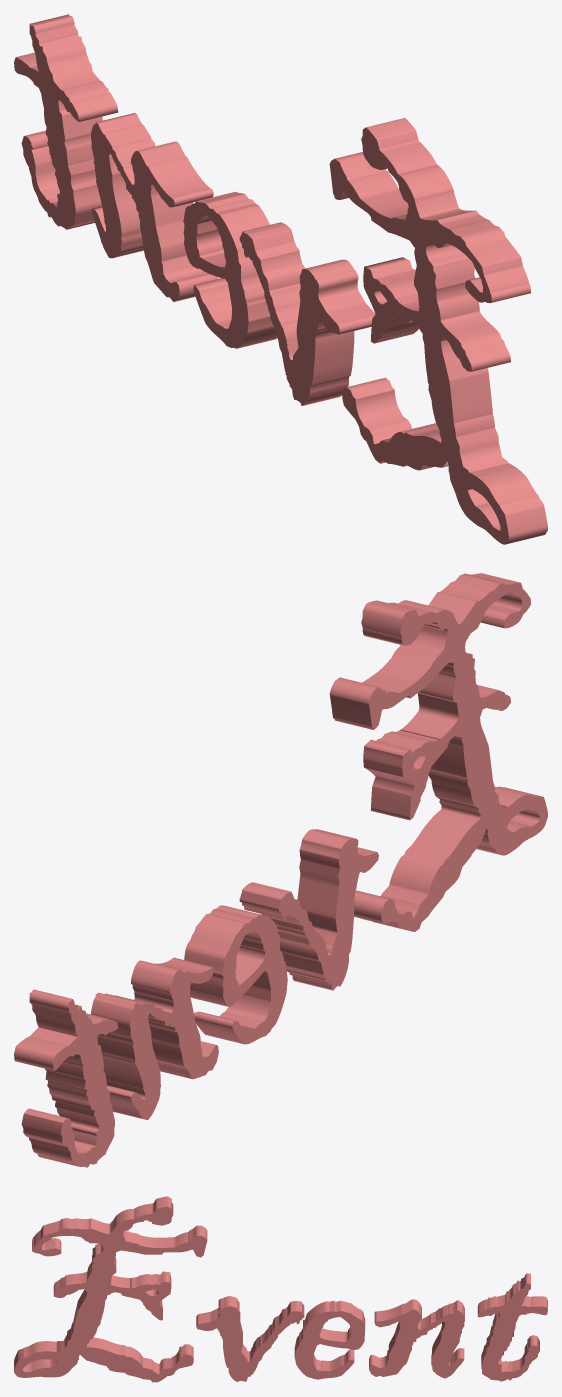
3 views of the same model, one above another, from view 1: azimuth 30°, elevation 25°; view 2: azimuth 150°, elevation 25°; view 3: azimuth 270°, elevation 25° (orthographic). The views are drawn at different scales.
Visible parts, largest first — view 1: 文字; view 2: 文字; view 3: 文字.
Part boxes in pixels (bbox=[...]): 文字: bbox=[14, 14, 547, 544]; 文字: bbox=[14, 573, 547, 1167]; 文字: bbox=[14, 1196, 547, 1382].
Bounding box in the file's own units: 15 × 120 × 329.
